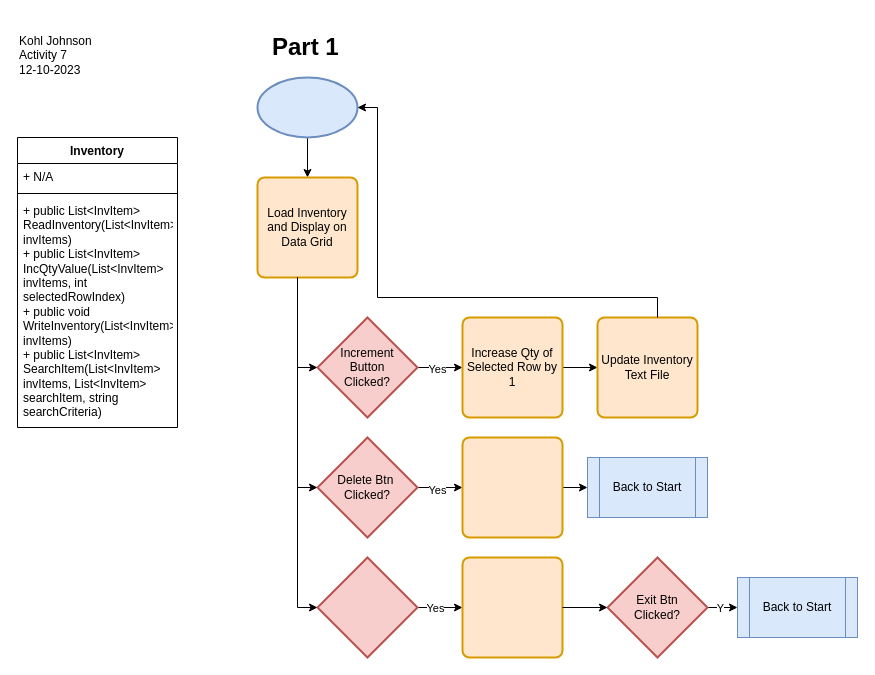
Image size: 875x675. Some labels were removed from this diagram. Each missing label, with the box of its shape:
Delete Row from Data Grid: (461, 436, 563, 538)
Display Search Results in FrmSecondary: (461, 556, 563, 658)
Search Btn Clicked?: (316, 556, 418, 658)
Start: (256, 76, 358, 138)
